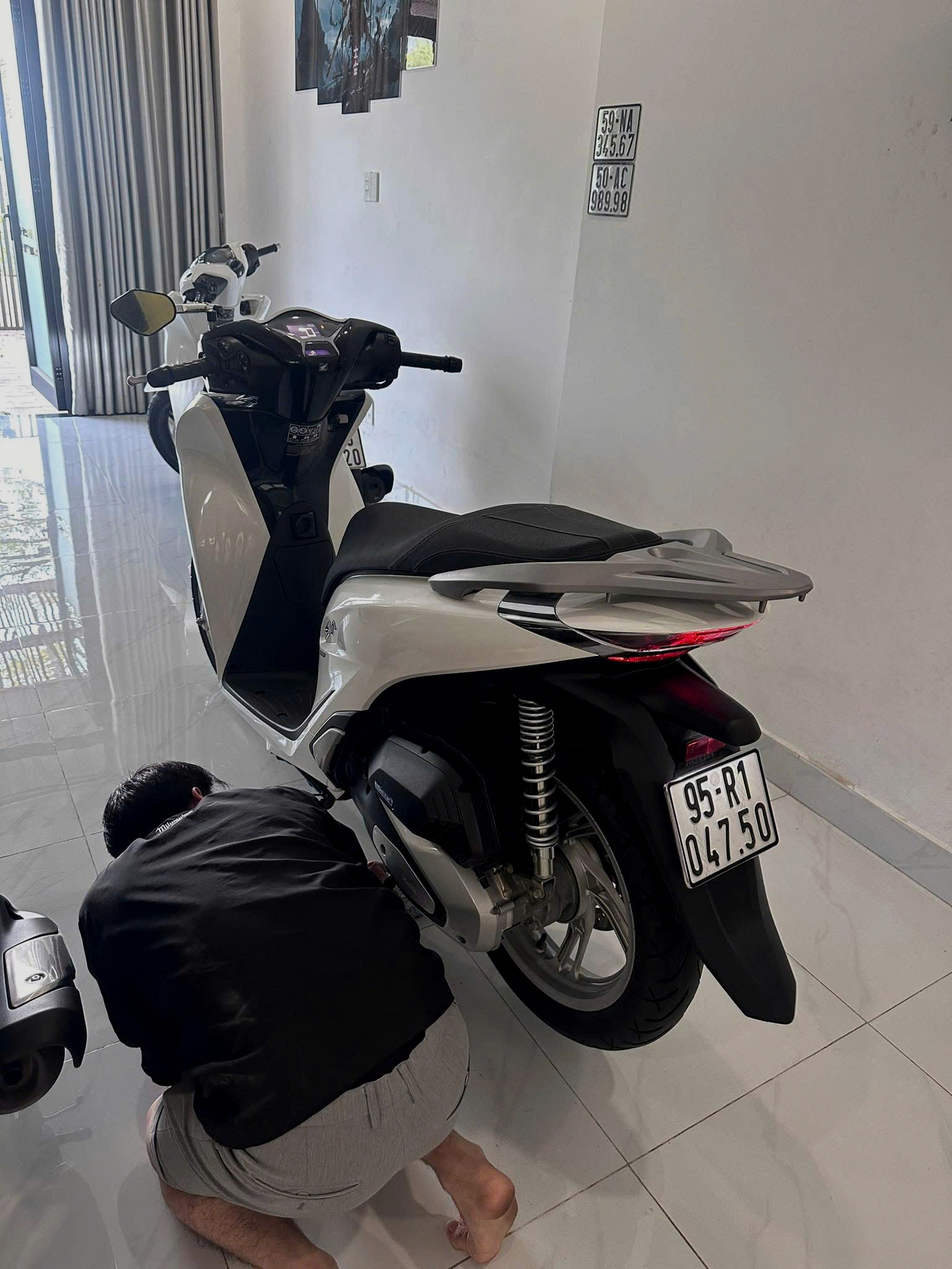Bien-so: (682, 724, 800, 864)
